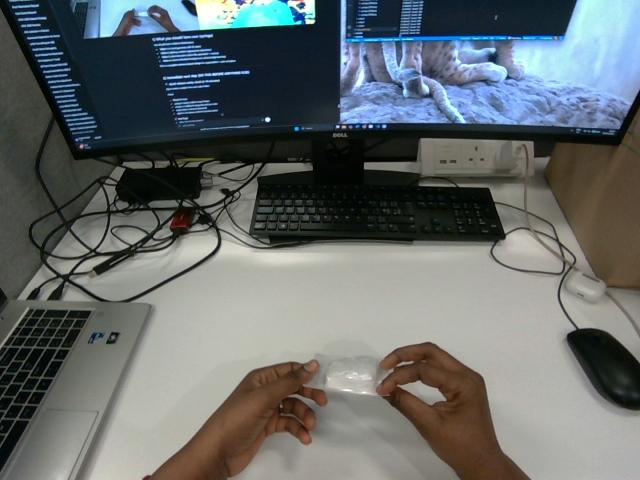gauze: (306, 354, 388, 394)
